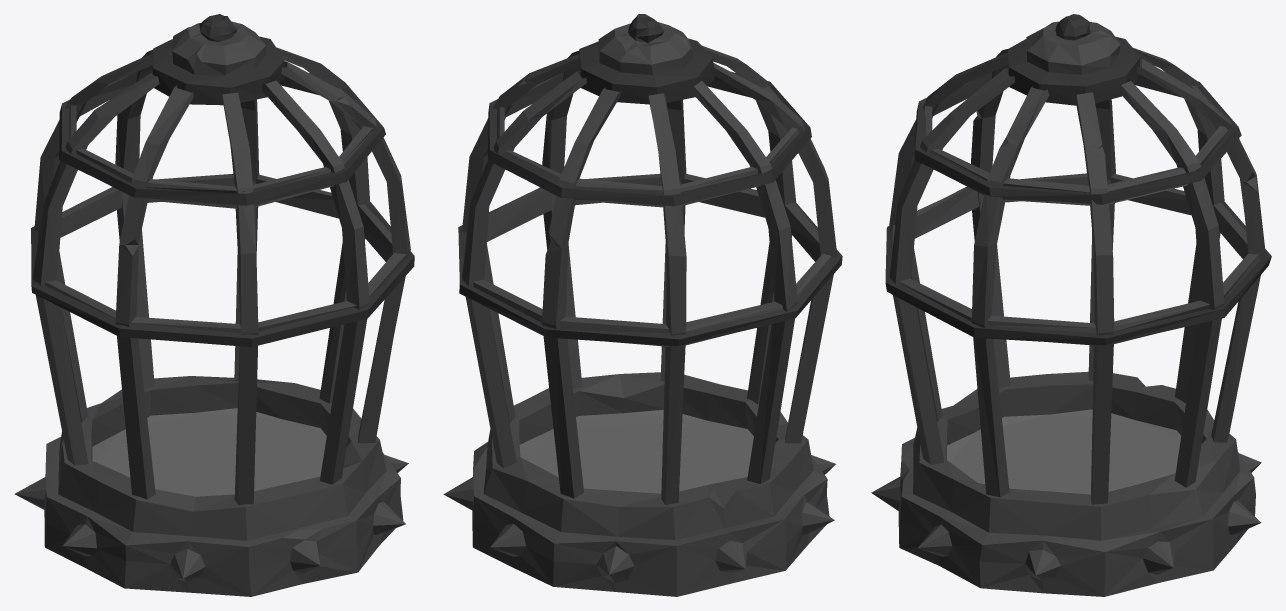
File: AWS_Cage.fbx
The picture shows the model from 3 angles, left to right: view 1: azimuth 30°, elevation 25°; view 2: azimuth 150°, elevation 25°; view 3: azimuth 270°, elevation 25°; orthographic projection.
Visible parts, largest first — view 1: AWS_Cage; view 2: AWS_Cage; view 3: AWS_Cage.
Boxes of the visible parts, <box> form: AWS_Cage: <box>14,14,414,596</box>; AWS_Cage: <box>443,14,842,596</box>; AWS_Cage: <box>871,14,1271,596</box>.
Bounding box in the file's own units: 58.4 × 81.62 × 58.64.
